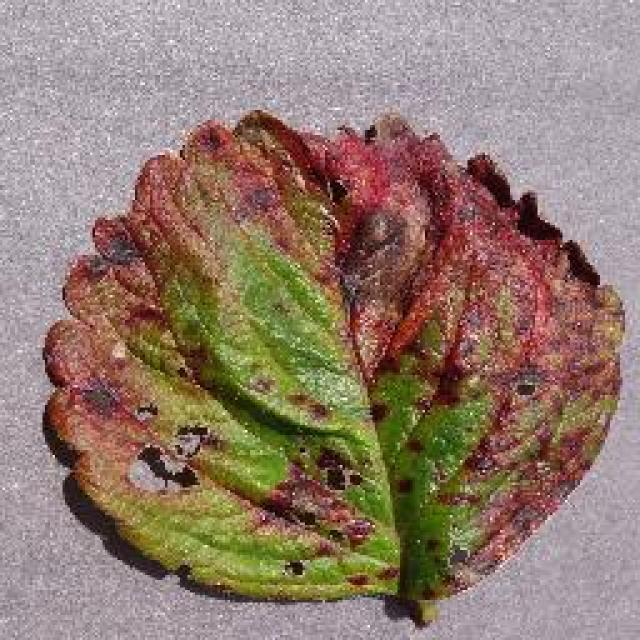Strawberry leaf scorch: (152, 167, 535, 525)
